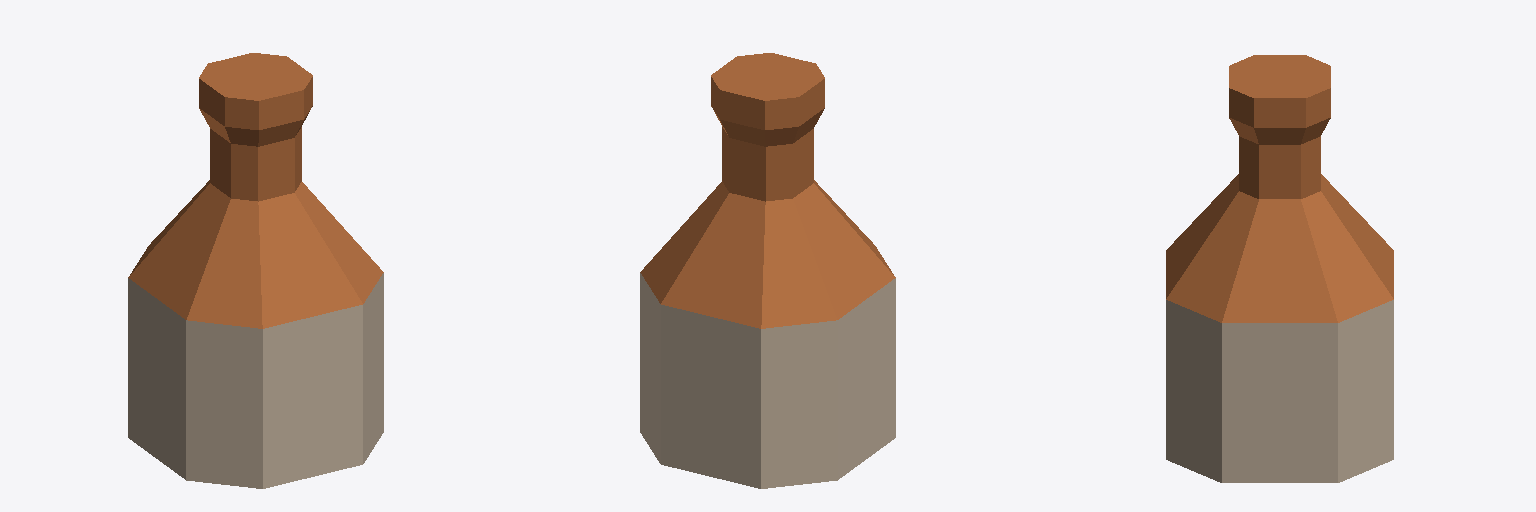
The model's file is bottleLarge.obj.
3 views of the same model, side by side, from view 1: azimuth 30°, elevation 25°; view 2: azimuth 150°, elevation 25°; view 3: azimuth 270°, elevation 25° (orthographic).
Visible parts, largest first — view 1: bottleLarge; view 2: bottleLarge; view 3: bottleLarge.
Boxes of the visible parts, x1,y1,x2,y2 form: bottleLarge: [128, 53, 383, 488]; bottleLarge: [640, 53, 895, 488]; bottleLarge: [1166, 55, 1393, 482].
Size of the model in its own units: 2.45 by 4.25 by 2.45.